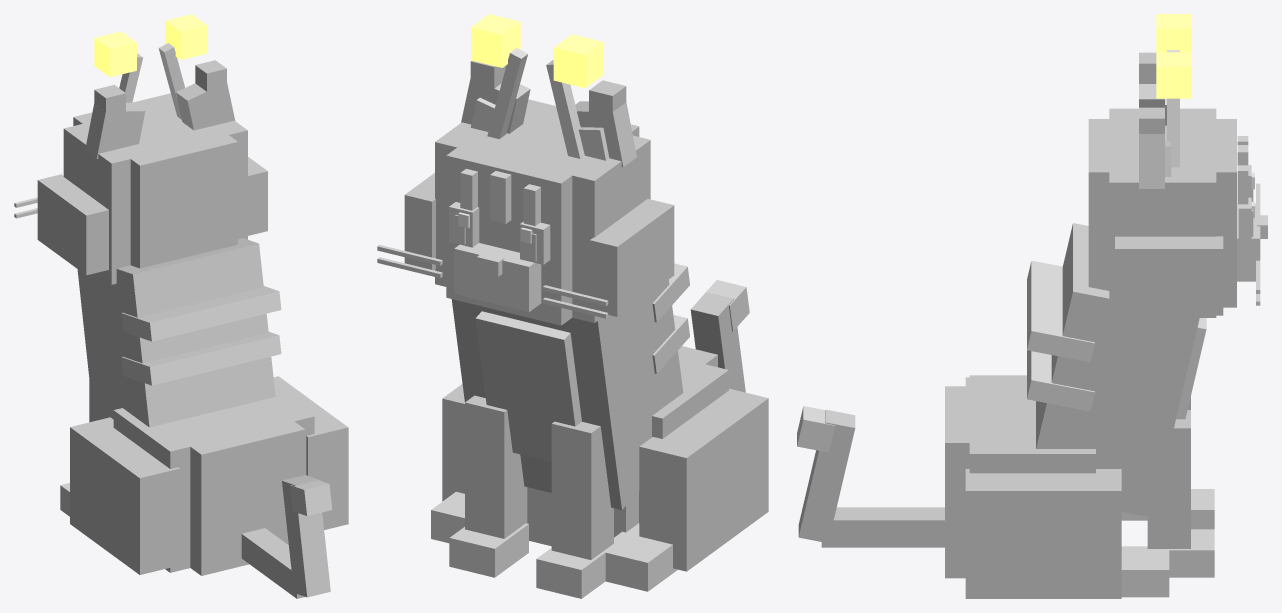
The model's file is AlienCat.fbx.
The picture shows the model from 3 angles, left to right: view 1: azimuth 30°, elevation 25°; view 2: azimuth 150°, elevation 25°; view 3: azimuth 270°, elevation 25°; orthographic projection. The views are drawn at different scales.
Visible parts, largest first — view 1: Alien Cat_body_8, Alien Cat_legBL_5, Alien Cat_body_3, Alien Cat_head_19, Alien Cat_head_18, Alien Cat_head_21, Alien Cat_body_2, Alien Cat_body_1, Alien Cat_head_17, Alien Cat_legBR_4, Alien Cat_body_11, Alien Cat_body_10 (+14 smaller); view 2: Alien Cat_body_8, Alien Cat_legBL_5, Alien Cat_body_9, Alien Cat_head_18, Alien Cat_head_19, Alien Cat_legFL_13, Alien Cat_head_21, Alien Cat_legFR_12, Alien Cat_head_22, Alien Cat_head_17, Alien Cat_legBL_7, Alien Cat_tail_44 (+28 smaller); view 3: Alien Cat_body_8, Alien Cat_legBR_4, Alien Cat_head_19, Alien Cat_head_20, Alien Cat_body_2, Alien Cat_head_18, Alien Cat_tail_43, Alien Cat_legFR_12, Alien Cat_tail_44, Alien Cat_body_11, Alien Cat_body_3, Alien Cat_legBR_6 (+14 smaller).
Boxes of the visible parts, left/top/right/bottom form: Alien Cat_body_8: left=77, top=238, right=275, bottom=427; Alien Cat_legBL_5: left=70, top=417, right=180, bottom=574; Alien Cat_body_3: left=161, top=399, right=305, bottom=515; Alien Cat_head_19: left=73, top=93, right=237, bottom=226; Alien Cat_head_18: left=63, top=102, right=247, bottom=223; Alien Cat_head_21: left=37, top=174, right=108, bottom=275; Alien Cat_body_2: left=113, top=387, right=314, bottom=509; Alien Cat_body_1: left=190, top=495, right=288, bottom=575; Alien Cat_head_17: left=130, top=202, right=237, bottom=268; Alien Cat_legBR_4: left=273, top=376, right=348, bottom=529; Alien Cat_body_11: left=121, top=286, right=281, bottom=341; Alien Cat_body_10: left=121, top=332, right=281, bottom=385; Alien Cat_body_8: left=451, top=279, right=683, bottom=509; Alien Cat_legBL_5: left=639, top=388, right=768, bottom=571; Alien Cat_body_9: left=475, top=311, right=581, bottom=461; Alien Cat_head_18: left=435, top=110, right=650, bottom=250; Alien Cat_head_19: left=446, top=99, right=639, bottom=254; Alien Cat_legFL_13: left=551, top=421, right=613, bottom=559; Alien Cat_head_21: left=590, top=199, right=674, bottom=316; Alien Cat_legFR_12: left=465, top=395, right=527, bottom=538; Alien Cat_head_22: left=454, top=243, right=541, bottom=312; Alien Cat_head_17: left=446, top=226, right=572, bottom=325; Alien Cat_legBL_7: left=605, top=523, right=677, bottom=591; Alien Cat_tail_44: left=690, top=292, right=745, bottom=392; Alien Cat_body_8: left=1036, top=223, right=1199, bottom=517; Alien Cat_legBR_4: left=965, top=469, right=1121, bottom=598; Alien Cat_head_19: left=1088, top=119, right=1236, bottom=239; Alien Cat_head_20: left=1115, top=236, right=1223, bottom=315; Alien Cat_body_2: left=969, top=375, right=1095, bottom=473; Alien Cat_head_18: left=1109, top=108, right=1216, bottom=250; Alien Cat_tail_43: left=821, top=507, right=944, bottom=547; Alien Cat_legFR_12: left=1147, top=410, right=1190, bottom=548; Alien Cat_tail_44: left=798, top=409, right=855, bottom=543; Alien Cat_body_11: left=1027, top=260, right=1094, bottom=362; Alien Cat_body_3: left=945, top=386, right=1035, bottom=510; Alien Cat_legBR_6: left=1121, top=546, right=1169, bottom=597.
Size of the model in its own units: 124 by 259 by 217.
